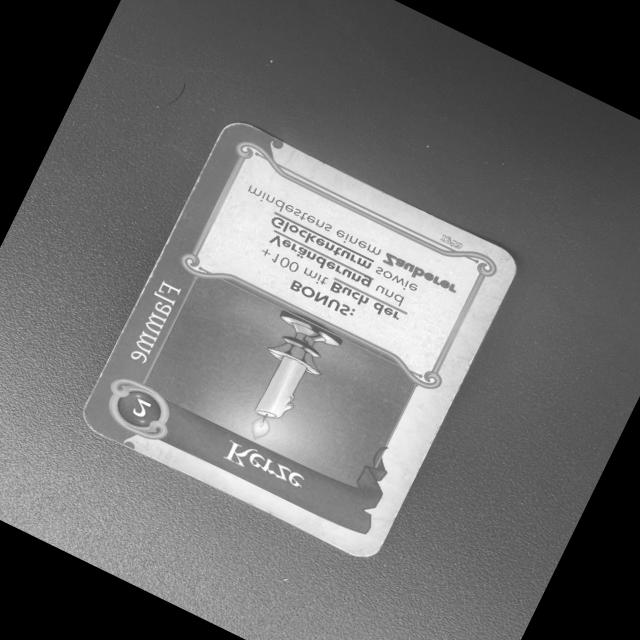Candle: (77, 112, 527, 565)
